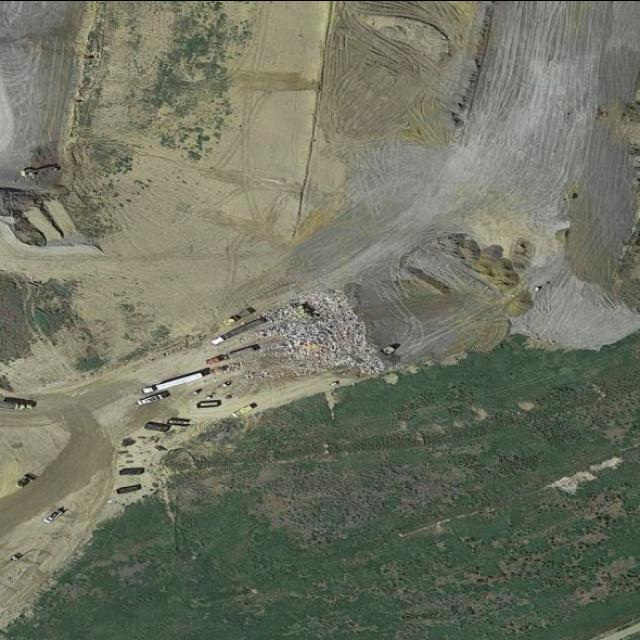dump_site: (252, 283, 391, 393)
